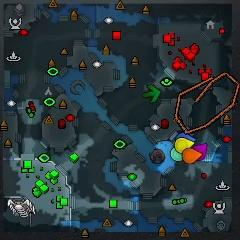p1: (176, 132, 196, 142)
p2: (171, 148, 184, 162)
p3: (191, 143, 207, 161)
p4: (175, 138, 194, 153)
p5: (183, 148, 201, 163)
x4: (143, 84, 161, 103)
